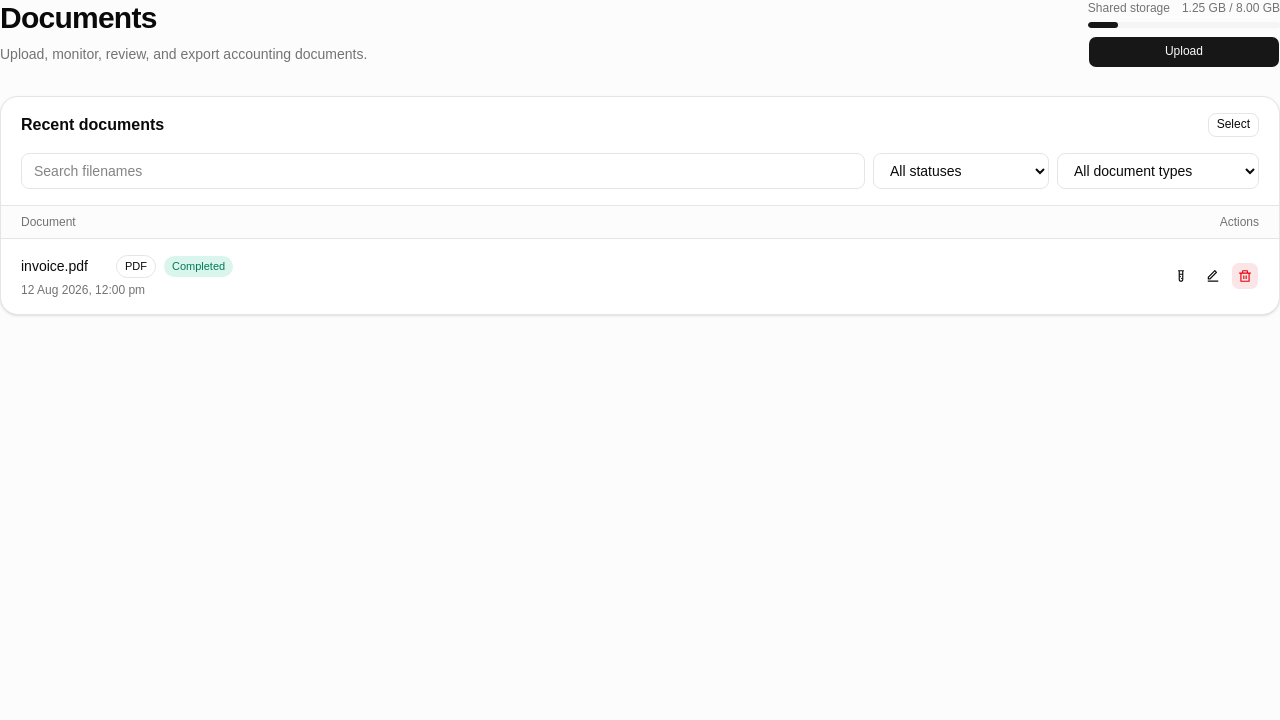
Test: DashboardPage › opens the original and offers both deletion choices
Click the button with aria-label "Open invoice.pdf in a new tab" at x=64, y=266, box [21,256,108,276]
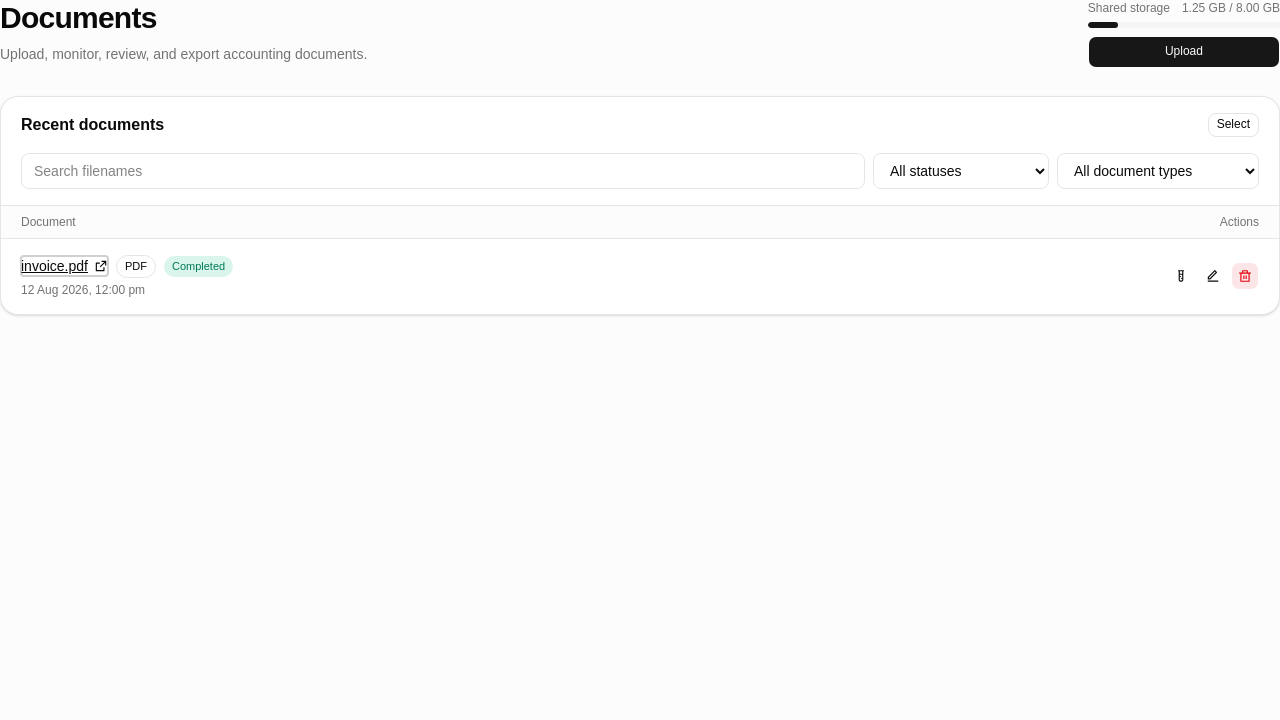
Click the button named "Delete document" at x=1245, y=276, box [1231,262,1259,290]
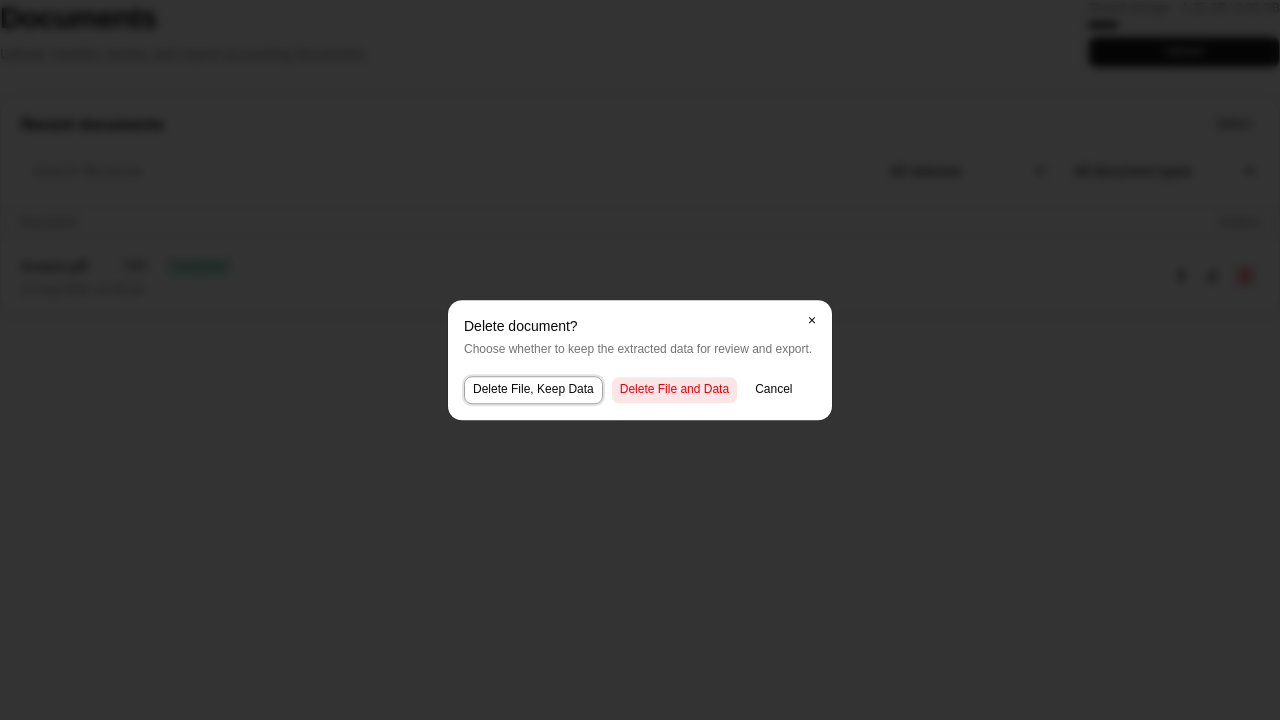
expect the button "Delete File, Keep Data" is enabled: met, box [464,376,603,404]
expect the button "Delete File and Data" is enabled: met, box [611,376,738,404]
